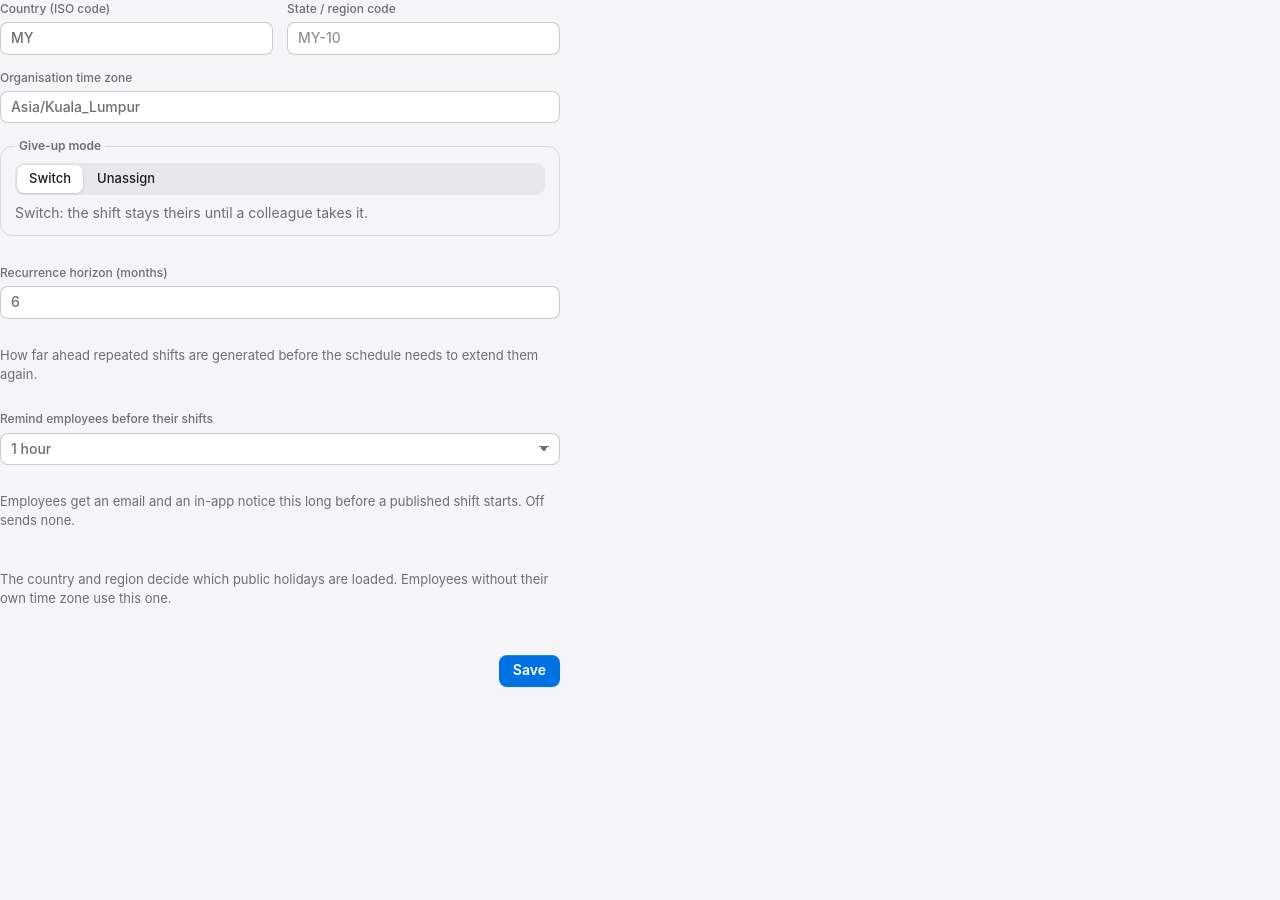
GeneralTab give-up mode › saves the mode and window when the switch to Unassign is accepted
The width and height of the screenshot is (1280, 900).
Click the radio button labelled "Unassign" at (126, 178), box [97, 170, 155, 186]
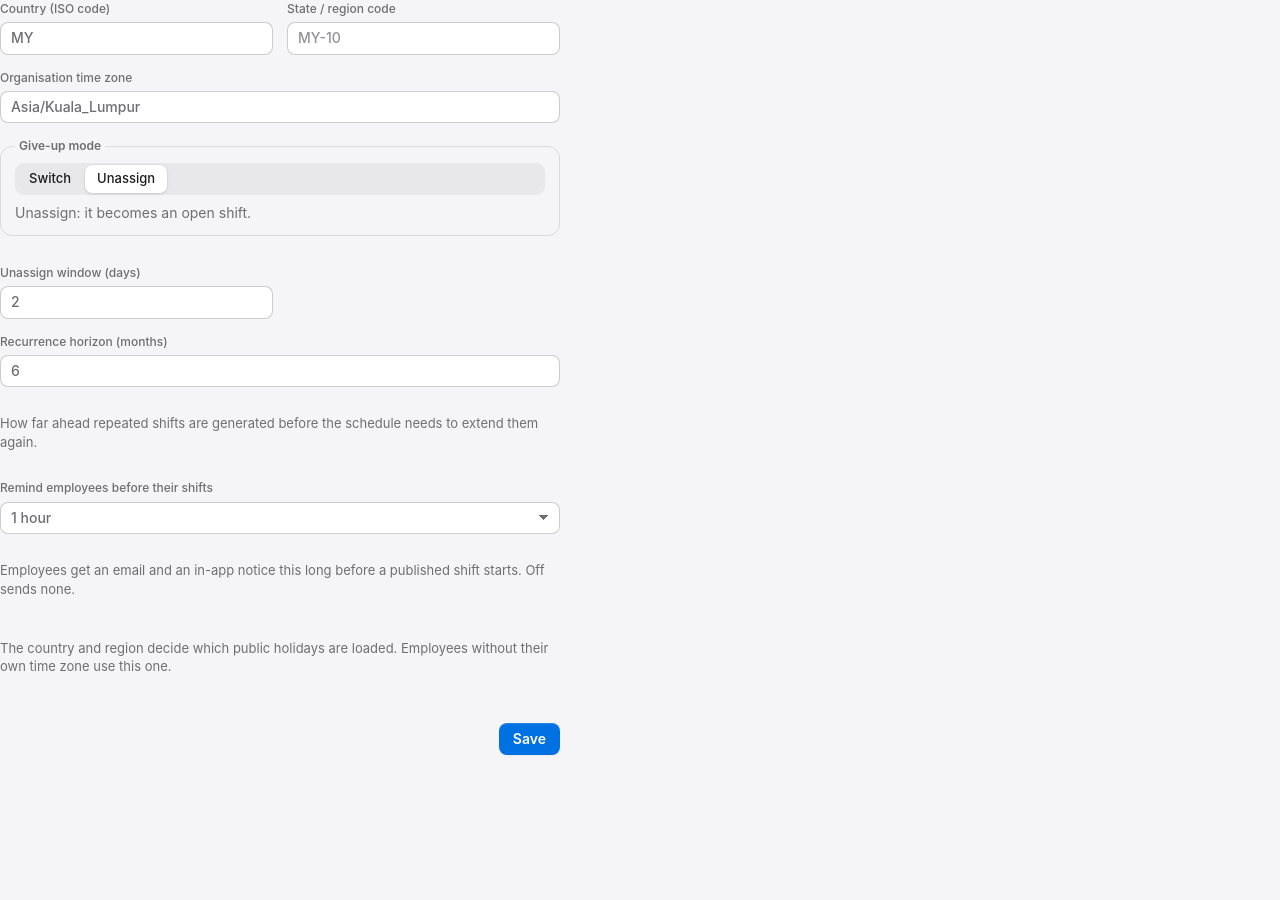
Replace the text in the number field labelled "Unassign window (days)" with "7" at (136, 303), box [0, 286, 273, 319]
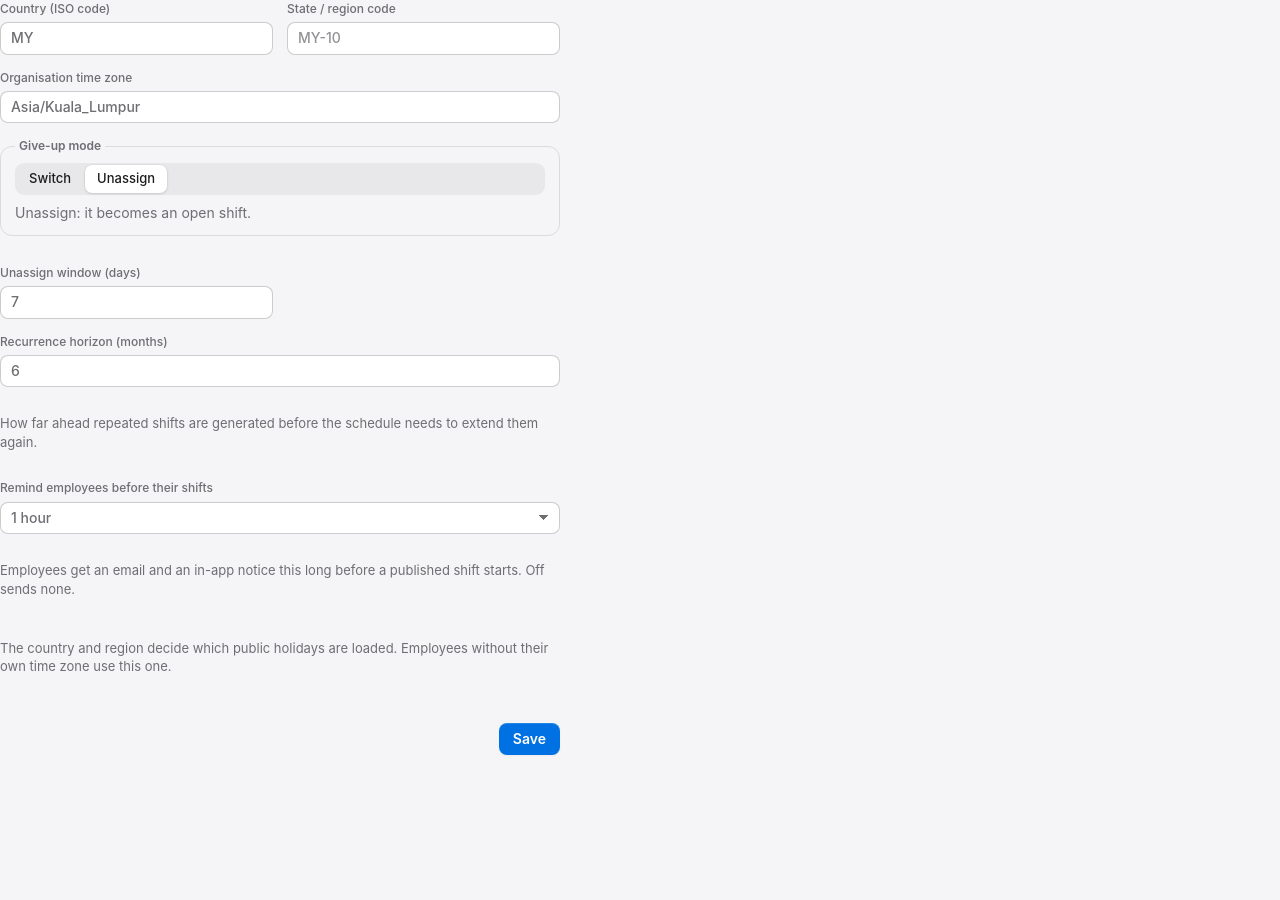
Click the button "Save" at (529, 739), box [499, 723, 560, 755]
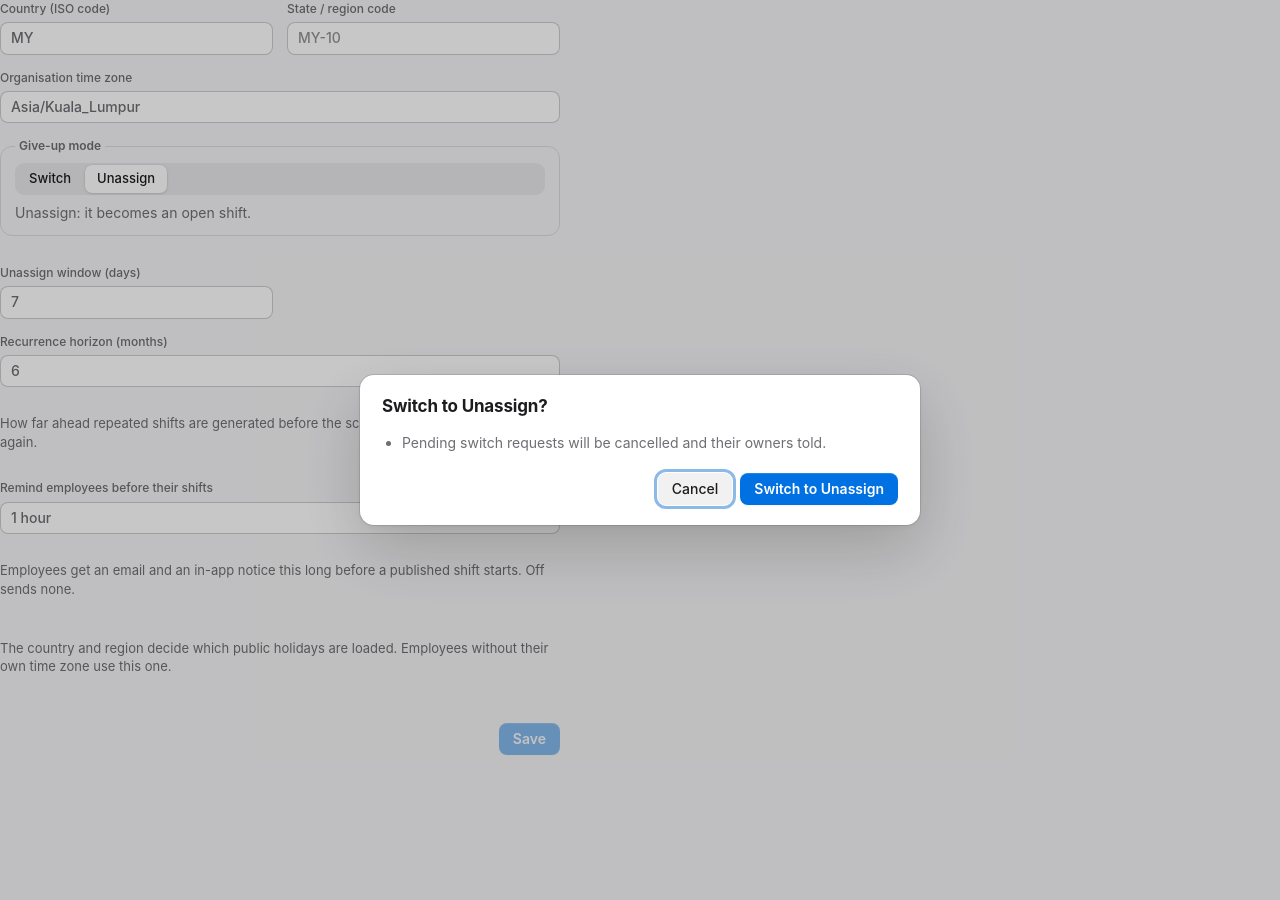
Click the button "Switch to Unassign" at (819, 489), box [740, 473, 898, 505]
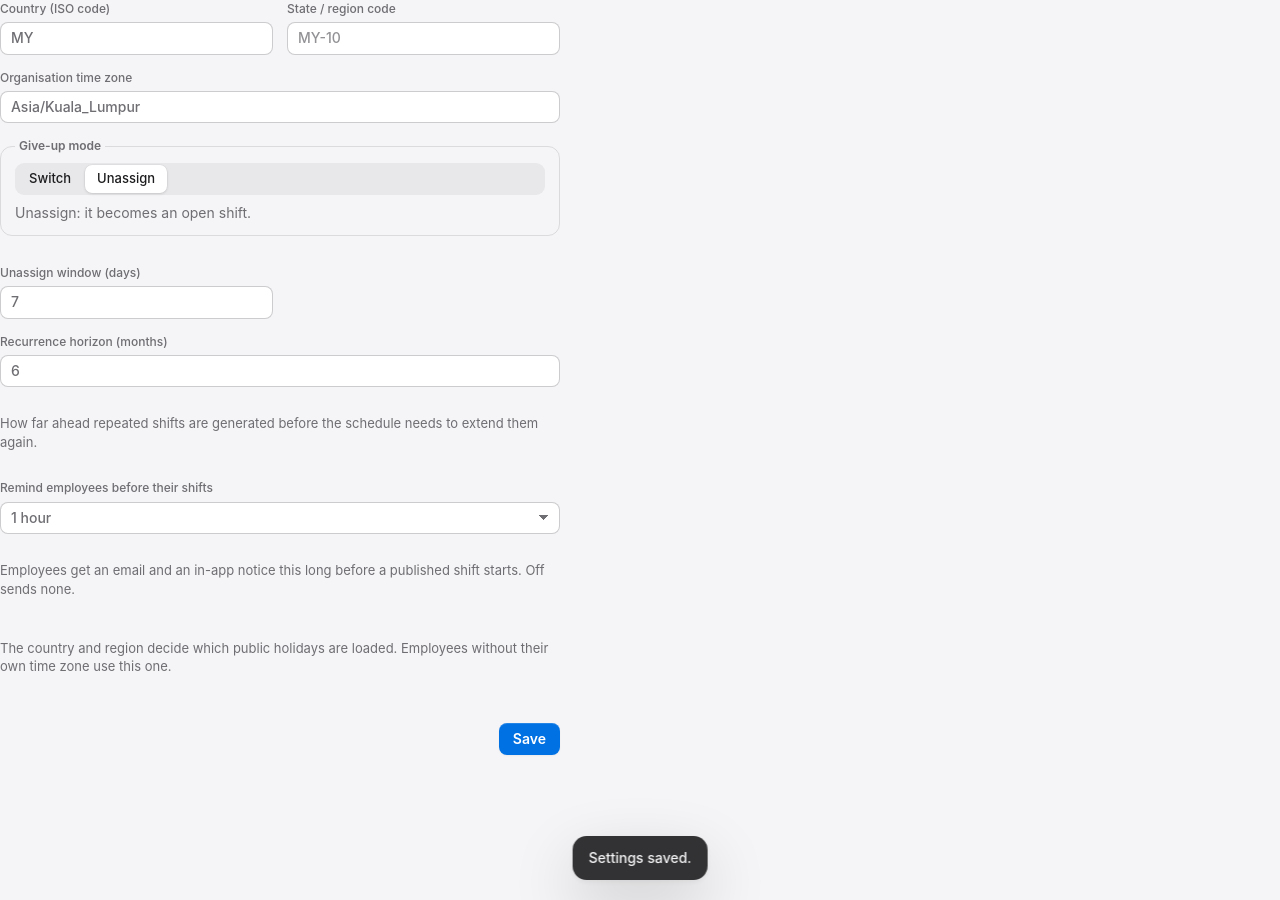
Result: the text "Settings saved." is shown at [589, 848, 691, 868]
